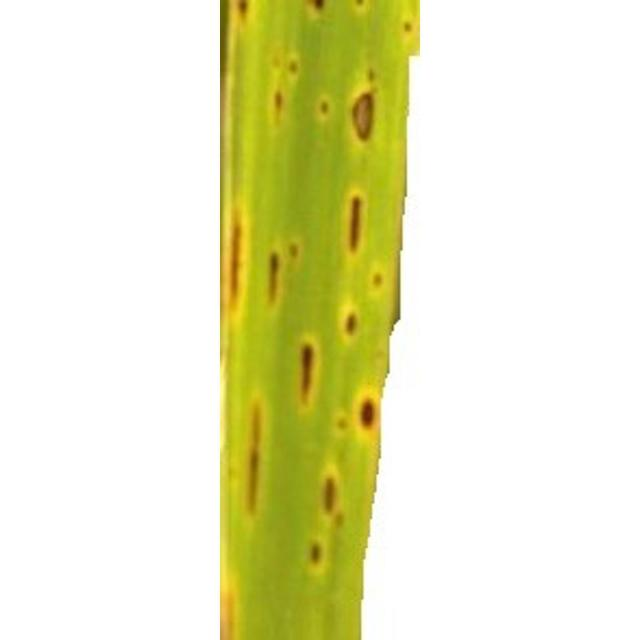Brown spot: (214, 0, 426, 640)
